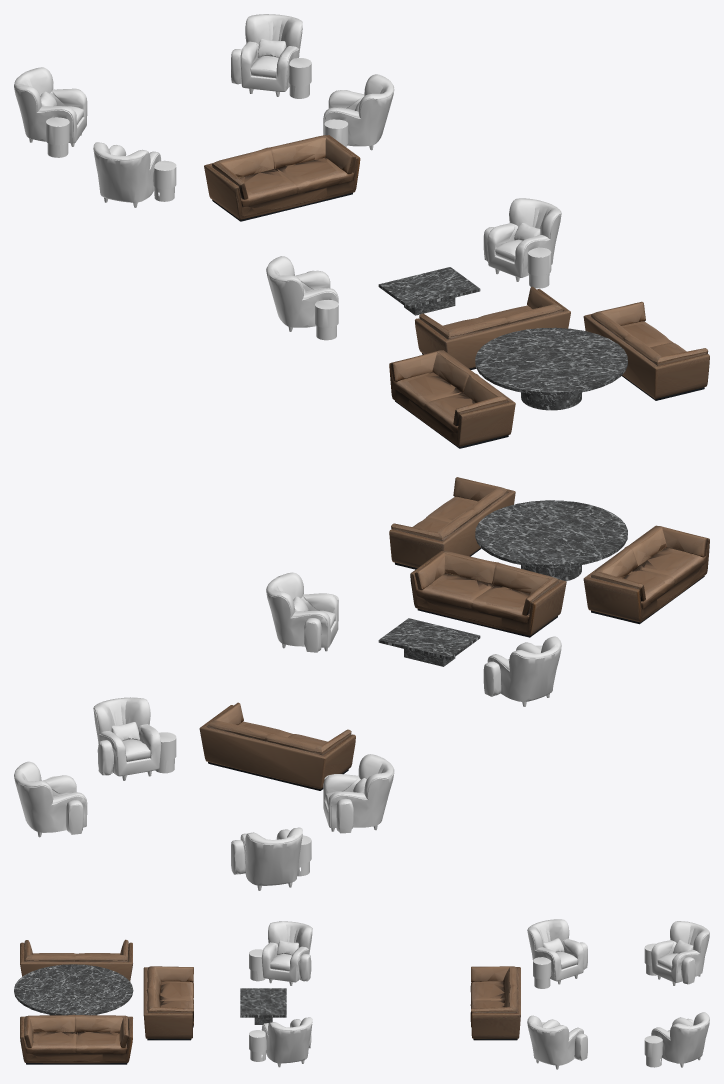
The model's file is Chancery Rosewood_LOBBY_FURNITURE_BAKE_V4.glb.
3 renders of one model, top to bottom at view 1: azimuth 30°, elevation 25°; view 2: azimuth 150°, elevation 25°; view 3: azimuth 270°, elevation 25°, orthographic. The views are drawn at different scales.
Visible parts, largest first — view 1: LOBBY FURNITURE; view 2: LOBBY FURNITURE; view 3: LOBBY FURNITURE.
Part boxes in pixels (left/top/right/bottom): LOBBY FURNITURE: left=14, top=14, right=709, bottom=448; LOBBY FURNITURE: left=14, top=477, right=709, bottom=890; LOBBY FURNITURE: left=14, top=919, right=709, bottom=1069.
Bounding box in the file's own units: 4.44 × 0.8482 × 11.68.
2 materials, 2 textured.
